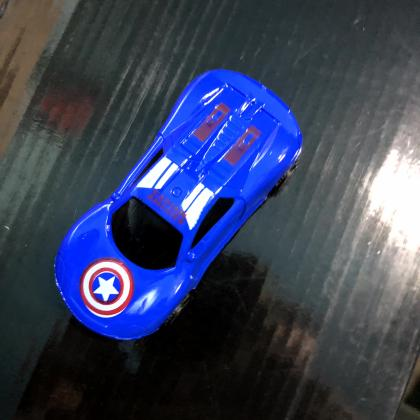Car: (54, 66, 306, 344)
